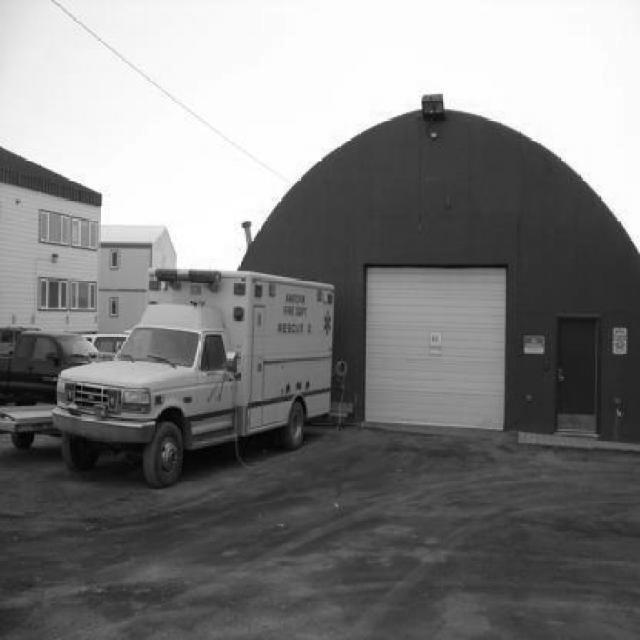Ambulance: (51, 269, 335, 490)
